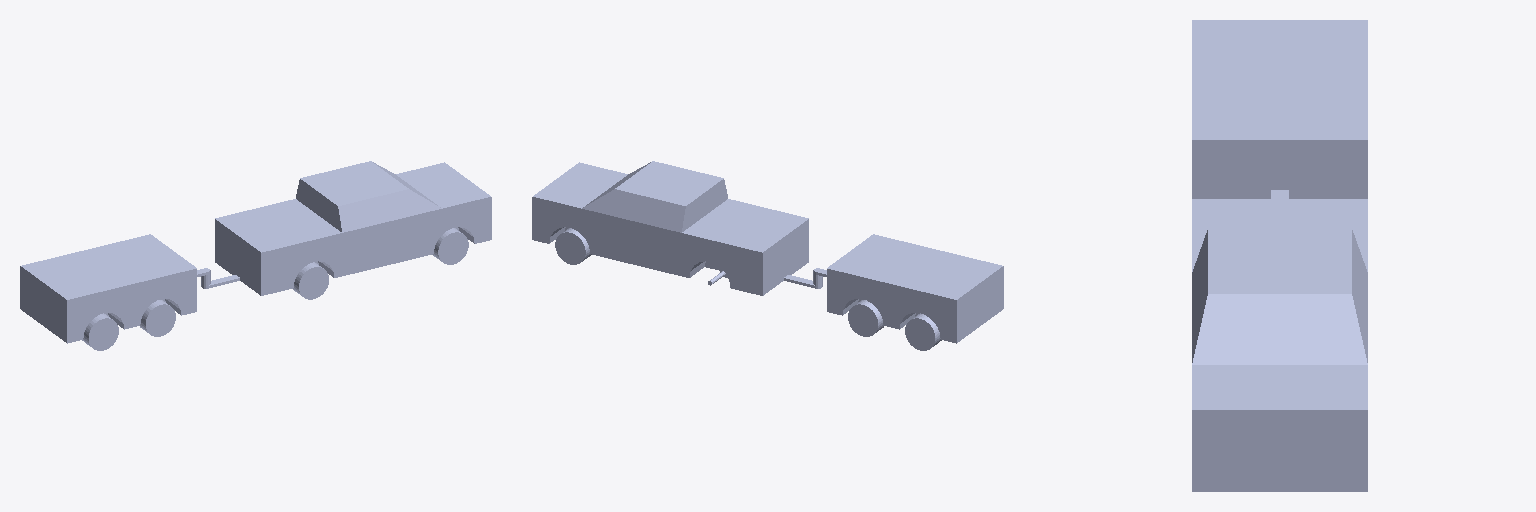
robot.urdf — single_trailer_assembly:
<?xml version="1.0" encoding="utf-8"?>
<!-- This URDF was automatically created by SolidWorks to URDF Exporter! Originally created by [author] ([email redacted]) 
     Commit Version: 1.6.0-4-g7f85cfe  Build Version: 1.6.7995.38578
     For more information, please see http://wiki.ros.org/sw_urdf_exporter -->
<robot
  xmlns:xacro="http://www.ros.org/wiki/xacro"
  name="single_trailer_assembly">
  <link
    name="base_link">
    <inertial>
      <origin
        xyz="0.0133664812595575 -5.07580647006664E-11 0.504334048629493"
        rpy="0 0 0" />
      <mass
        value="5623.70261925949" />
      <inertia
        ixx="1504.92873167937"
        ixy="6.28263899085449E-07"
        ixz="-100.79395439342"
        iyy="7946.38521961247"
        iyz="-7.12382411177824E-08"
        izz="8460.84959033347" />
    </inertial>
    <visual>
      <origin
        xyz="0 0 0"
        rpy="0 0 0" />
      <geometry>
        <mesh
          filename="package://single_trailer_assembly/meshes/base_link.STL" />
      </geometry>
      <material
        name="">
        <color
          rgba="0.792156862745098 0.819607843137255 0.933333333333333 1" />
      </material>
    </visual>
    <collision>
      <origin
        xyz="0 0 0"
        rpy="0 0 0" />
      <geometry>
        <mesh
          filename="package://single_trailer_assembly/meshes/base_link.STL" />
      </geometry>
    </collision>
  </link>
  <link
    name="b_front_left_linkage">
    <inertial>
      <origin
        xyz="2.01833247004402E-07 0.0866174322359835 0.114144894811921"
        rpy="0 0 0" />
      <mass
        value="4.04562727792635" />
      <inertia
        ixx="0.140037164042004"
        ixy="5.57435821150625E-08"
        ixz="-2.08850902311321E-08"
        iyy="0.0827902917589038"
        iyz="0.0400096165626046"
        izz="0.0604906292211793" />
    </inertial>
    <visual>
      <origin
        xyz="0 0 0"
        rpy="0 0 0" />
      <geometry>
        <mesh
          filename="package://single_trailer_assembly/meshes/b_front_left_linkage.STL" />
      </geometry>
      <material
        name="">
        <color
          rgba="0.792156862745098 0.819607843137255 0.933333333333333 1" />
      </material>
    </visual>
    <collision>
      <origin
        xyz="0 0 0"
        rpy="0 0 0" />
      <geometry>
        <mesh
          filename="package://single_trailer_assembly/meshes/b_front_left_linkage.STL" />
      </geometry>
    </collision>
  </link>
  <joint
    name="b_front_left_linkage_joint"
    type="revolute">
    <origin
      xyz="1.46 0.3625 0"
      rpy="0 0 0" />
    <parent
      link="base_link" />
    <child
      link="b_front_left_linkage" />
    <axis
      xyz="0 0 1" />
    <limit
      lower="-0.5"
      upper="0.5"
      effort="0"
      velocity="0" />
  </joint>
  <link
    name="b_front_left_wheel">
    <inertial>
      <origin
        xyz="0 0 0"
        rpy="0 0 0" />
      <mass
        value="74.1907633489725" />
      <inertia
        ixx="2.08218966287404"
        ixy="-1.30089087994337E-17"
        ixz="5.1605164674113E-17"
        iyy="3.08830412900736"
        iyz="7.48293486257905E-18"
        izz="2.08218966287404" />
    </inertial>
    <visual>
      <origin
        xyz="0 0 0"
        rpy="0 0 0" />
      <geometry>
        <mesh
          filename="package://single_trailer_assembly/meshes/b_front_left_wheel.STL" />
      </geometry>
      <material
        name="">
        <color
          rgba="0.792156862745098 0.819607843137255 0.933333333333333 1" />
      </material>
    </visual>
    <collision>
      <origin
        xyz="0 0 0"
        rpy="0 0 0" />
      <geometry>
        <mesh
          filename="package://single_trailer_assembly/meshes/b_front_left_wheel.STL" />
      </geometry>
    </collision>
  </link>
  <joint
    name="b_front_left_joint"
    type="revolute">
    <origin
      xyz="0 0.2275 0"
      rpy="0 0 0" />
    <parent
      link="b_front_left_linkage" />
    <child
      link="b_front_left_wheel" />
    <axis
      xyz="0 -1 0" />
    <limit
      lower="0"
      upper="0"
      effort="0"
      velocity="0" />
  </joint>
  <link
    name="b_front_right_linkage">
    <inertial>
      <origin
        xyz="-2.01833246116223E-07 -0.0866174322359831 0.114144894811923"
        rpy="0 0 0" />
      <mass
        value="4.04562727792644" />
      <inertia
        ixx="0.140037164042006"
        ixy="5.57435820882623E-08"
        ixz="2.08850901566751E-08"
        iyy="0.0827902917589053"
        iyz="-0.0400096165626047"
        izz="0.0604906292211793" />
    </inertial>
    <visual>
      <origin
        xyz="0 0 0"
        rpy="0 0 0" />
      <geometry>
        <mesh
          filename="package://single_trailer_assembly/meshes/b_front_right_linkage.STL" />
      </geometry>
      <material
        name="">
        <color
          rgba="0.792156862745098 0.819607843137255 0.933333333333333 1" />
      </material>
    </visual>
    <collision>
      <origin
        xyz="0 0 0"
        rpy="0 0 0" />
      <geometry>
        <mesh
          filename="package://single_trailer_assembly/meshes/b_front_right_linkage.STL" />
      </geometry>
    </collision>
  </link>
  <joint
    name="b_front_right_linkage_joint"
    type="revolute">
    <origin
      xyz="1.46 -0.3625 0"
      rpy="0 0 0" />
    <parent
      link="base_link" />
    <child
      link="b_front_right_linkage" />
    <axis
      xyz="0 0 1" />
    <limit
      lower="-0.5"
      upper="0.5"
      effort="0"
      velocity="0" />
  </joint>
  <link
    name="b_front_right_wheel">
    <inertial>
      <origin
        xyz="0 0 0"
        rpy="0 0 0" />
      <mass
        value="74.1907633489725" />
      <inertia
        ixx="2.08218966287404"
        ixy="1.28145530038214E-18"
        ixz="-2.40294106238822E-16"
        iyy="3.08830412900736"
        iyz="-2.41880721526122E-18"
        izz="2.08218966287404" />
    </inertial>
    <visual>
      <origin
        xyz="0 0 0"
        rpy="0 0 0" />
      <geometry>
        <mesh
          filename="package://single_trailer_assembly/meshes/b_front_right_wheel.STL" />
      </geometry>
      <material
        name="">
        <color
          rgba="0.792156862745098 0.819607843137255 0.933333333333333 1" />
      </material>
    </visual>
    <collision>
      <origin
        xyz="0 0 0"
        rpy="0 0 0" />
      <geometry>
        <mesh
          filename="package://single_trailer_assembly/meshes/b_front_right_wheel.STL" />
      </geometry>
    </collision>
  </link>
  <joint
    name="b_front_right_joint"
    type="revolute">
    <origin
      xyz="0 -0.2275 0"
      rpy="0 0 0" />
    <parent
      link="b_front_right_linkage" />
    <child
      link="b_front_right_wheel" />
    <axis
      xyz="0 -1 0" />
    <limit
      lower="0"
      upper="0"
      effort="0"
      velocity="0" />
  </joint>
  <link
    name="b_back_left_wheel">
    <inertial>
      <origin
        xyz="0 -1.11022302462516E-16 0"
        rpy="0 0 0" />
      <mass
        value="74.1907633489725" />
      <inertia
        ixx="2.08218966287404"
        ixy="-3.48598814788576E-15"
        ixz="9.86076131526265E-32"
        iyy="3.08830412900736"
        iyz="-1.23785934175428E-30"
        izz="2.08218966287404" />
    </inertial>
    <visual>
      <origin
        xyz="0 0 0"
        rpy="0 0 0" />
      <geometry>
        <mesh
          filename="package://single_trailer_assembly/meshes/b_back_left_wheel.STL" />
      </geometry>
      <material
        name="">
        <color
          rgba="0.792156862745098 0.819607843137255 0.933333333333333 1" />
      </material>
    </visual>
    <collision>
      <origin
        xyz="0 0 0"
        rpy="0 0 0" />
      <geometry>
        <mesh
          filename="package://single_trailer_assembly/meshes/b_back_left_wheel.STL" />
      </geometry>
    </collision>
  </link>
  <joint
    name="b_back_left_joint"
    type="revolute">
    <origin
      xyz="-1.17 0.6125 0"
      rpy="0 0 0" />
    <parent
      link="base_link" />
    <child
      link="b_back_left_wheel" />
    <axis
      xyz="0 1 0" />
    <limit
      lower="0"
      upper="0"
      effort="0"
      velocity="0" />
  </joint>
  <link
    name="b_back_right_wheel">
    <inertial>
      <origin
        xyz="0 1.11022302462516E-16 0"
        rpy="0 0 0" />
      <mass
        value="74.1907633489725" />
      <inertia
        ixx="2.08218966287404"
        ixy="3.48598814788576E-15"
        ixz="9.86076131526265E-32"
        iyy="3.08830412900736"
        iyz="1.22529057414273E-30"
        izz="2.08218966287404" />
    </inertial>
    <visual>
      <origin
        xyz="0 0 0"
        rpy="0 0 0" />
      <geometry>
        <mesh
          filename="package://single_trailer_assembly/meshes/b_back_right_wheel.STL" />
      </geometry>
      <material
        name="">
        <color
          rgba="0.792156862745098 0.819607843137255 0.933333333333333 1" />
      </material>
    </visual>
    <collision>
      <origin
        xyz="0 0 0"
        rpy="0 0 0" />
      <geometry>
        <mesh
          filename="package://single_trailer_assembly/meshes/b_back_right_wheel.STL" />
      </geometry>
    </collision>
  </link>
  <joint
    name="b_back_right_joint"
    type="revolute">
    <origin
      xyz="-1.17 -0.6125 0"
      rpy="0 0 0" />
    <parent
      link="base_link" />
    <child
      link="b_back_right_wheel" />
    <axis
      xyz="0 1 0" />
    <limit
      lower="0"
      upper="0"
      effort="0"
      velocity="0" />
  </joint>
  <link
    name="trailer">
    <inertial>
      <origin
        xyz="0.00442147901490841 -1.93479626032503E-16 0.0381335014738863"
        rpy="0 0 0" />
      <mass
        value="2461.70630024305" />
      <inertia
        ixx="548.627112313706"
        ixy="-7.55825540790616E-14"
        ixz="1.90768805911008"
        iyy="1433.47760714364"
        iyz="3.45359653404504E-14"
        izz="1743.78406934508" />
    </inertial>
    <visual>
      <origin
        xyz="0 0 0"
        rpy="0 0 0" />
      <geometry>
        <mesh
          filename="package://single_trailer_assembly/meshes/trailer.STL" />
      </geometry>
      <material
        name="">
        <color
          rgba="0.792156862745098 0.819607843137255 0.933333333333333 1" />
      </material>
    </visual>
    <collision>
      <origin
        xyz="0 0 0"
        rpy="0 0 0" />
      <geometry>
        <mesh
          filename="package://single_trailer_assembly/meshes/trailer.STL" />
      </geometry>
    </collision>
  </link>
  <joint
    name="trailer_joint"
    type="revolute">
    <origin
      xyz="-4.5815 0 0.38996"
      rpy="0 0 0" />
    <parent
      link="base_link" />
    <child
      link="trailer" />
    <axis
      xyz="0 0 -1" />
    <limit
      lower="-1"
      upper="1"
      effort="0"
      velocity="0" />
  </joint>
  <link
    name="t_front_left_wheel">
    <inertial>
      <origin
        xyz="0 0 1.11022302462516E-16"
        rpy="0 0 0" />
      <mass
        value="74.1907633489725" />
      <inertia
        ixx="2.08218966287404"
        ixy="3.68854120901134E-17"
        ixz="-7.9244016524326E-32"
        iyy="3.08830412900736"
        iyz="-6.26636119034903E-17"
        izz="2.08218966287404" />
    </inertial>
    <visual>
      <origin
        xyz="0 0 0"
        rpy="0 0 0" />
      <geometry>
        <mesh
          filename="package://single_trailer_assembly/meshes/t_front_left_wheel.STL" />
      </geometry>
      <material
        name="">
        <color
          rgba="0.792156862745098 0.819607843137255 0.933333333333333 1" />
      </material>
    </visual>
    <collision>
      <origin
        xyz="0 0 0"
        rpy="0 0 0" />
      <geometry>
        <mesh
          filename="package://single_trailer_assembly/meshes/t_front_left_wheel.STL" />
      </geometry>
    </collision>
  </link>
  <joint
    name="t_front_left_joint"
    type="revolute">
    <origin
      xyz="0.53575 0.6125 -0.38996"
      rpy="0 0 0" />
    <parent
      link="trailer" />
    <child
      link="t_front_left_wheel" />
    <axis
      xyz="0 1 0" />
    <limit
      lower="0"
      upper="0"
      effort="0"
      velocity="0" />
  </joint>
  <link
    name="t_front_right_wheel">
    <inertial>
      <origin
        xyz="4.44089209850063E-16 0 0"
        rpy="0 0 0" />
      <mass
        value="74.1907633489725" />
      <inertia
        ixx="2.08218966287404"
        ixy="-3.68854120901134E-17"
        ixz="-7.88853719605921E-32"
        iyy="3.08830412900736"
        iyz="-7.80658300851281E-17"
        izz="2.08218966287404" />
    </inertial>
    <visual>
      <origin
        xyz="0 0 0"
        rpy="0 0 0" />
      <geometry>
        <mesh
          filename="package://single_trailer_assembly/meshes/t_front_right_wheel.STL" />
      </geometry>
      <material
        name="">
        <color
          rgba="0.792156862745098 0.819607843137255 0.933333333333333 1" />
      </material>
    </visual>
    <collision>
      <origin
        xyz="0 0 0"
        rpy="0 0 0" />
      <geometry>
        <mesh
          filename="package://single_trailer_assembly/meshes/t_front_right_wheel.STL" />
      </geometry>
    </collision>
  </link>
  <joint
    name="t_front_right_joint"
    type="revolute">
    <origin
      xyz="0.53575 -0.6125 -0.38996"
      rpy="0 0 0" />
    <parent
      link="trailer" />
    <child
      link="t_front_right_wheel" />
    <axis
      xyz="0 1 0" />
    <limit
      lower="0"
      upper="0"
      effort="0"
      velocity="0" />
  </joint>
  <link
    name="t_back_left_wheel">
    <inertial>
      <origin
        xyz="0 0 0"
        rpy="0 0 0" />
      <mass
        value="74.1907633489725" />
      <inertia
        ixx="2.08218966287404"
        ixy="7.13254465120665E-17"
        ixz="7.28624699975923E-33"
        iyy="3.08830412900736"
        iyz="3.98256998387972E-18"
        izz="2.08218966287404" />
    </inertial>
    <visual>
      <origin
        xyz="0 0 0"
        rpy="0 0 0" />
      <geometry>
        <mesh
          filename="package://single_trailer_assembly/meshes/t_back_left_wheel.STL" />
      </geometry>
      <material
        name="">
        <color
          rgba="0.792156862745098 0.819607843137255 0.933333333333333 1" />
      </material>
    </visual>
    <collision>
      <origin
        xyz="0 0 0"
        rpy="0 0 0" />
      <geometry>
        <mesh
          filename="package://single_trailer_assembly/meshes/t_back_left_wheel.STL" />
      </geometry>
    </collision>
  </link>
  <joint
    name="t_back_left_joint"
    type="revolute">
    <origin
      xyz="-0.53575 0.6125 -0.38996"
      rpy="0 0 0" />
    <parent
      link="trailer" />
    <child
      link="t_back_left_wheel" />
    <axis
      xyz="0 1 0" />
    <limit
      lower="0"
      upper="0"
      effort="0"
      velocity="0" />
  </joint>
  <link
    name="t_back_right_wheel">
    <inertial>
      <origin
        xyz="0 0 0"
        rpy="0 0 0" />
      <mass
        value="74.1907633489725" />
      <inertia
        ixx="2.08218966287404"
        ixy="-7.13254465120665E-17"
        ixz="6.90280642601818E-33"
        iyy="3.08830412900736"
        iyz="-3.98256998387974E-18"
        izz="2.08218966287404" />
    </inertial>
    <visual>
      <origin
        xyz="0 0 0"
        rpy="0 0 0" />
      <geometry>
        <mesh
          filename="package://single_trailer_assembly/meshes/t_back_right_wheel.STL" />
      </geometry>
      <material
        name="">
        <color
          rgba="0.792156862745098 0.819607843137255 0.933333333333333 1" />
      </material>
    </visual>
    <collision>
      <origin
        xyz="0 0 0"
        rpy="0 0 0" />
      <geometry>
        <mesh
          filename="package://single_trailer_assembly/meshes/t_back_right_wheel.STL" />
      </geometry>
    </collision>
  </link>
  <joint
    name="t_back_right_joint"
    type="revolute">
    <origin
      xyz="-0.53575 -0.6125 -0.38996"
      rpy="0 0 0" />
    <parent
      link="trailer" />
    <child
      link="t_back_right_wheel" />
    <axis
      xyz="0 1 0" />
    <limit
      lower="0"
      upper="0"
      effort="0"
      velocity="0" />
  </joint>
</robot>

--- What the picture shows (computed from the rendered views, not written in the file) ---
Views: 3 orthographic renders of the robot side by side, from view 1: azimuth 30°, elevation 25°; view 2: azimuth 150°, elevation 25°; view 3: azimuth 270°, elevation 25°.
Robot: single_trailer_assembly — 12 links, 11 joints (11 revolute); root link base_link; default pose: every joint at zero.
Links seen in each view (by area): view 1: base_link, trailer, t_back_right_wheel, b_back_right_wheel, t_front_right_wheel, b_front_right_wheel; view 2: base_link, trailer, t_back_left_wheel, t_front_left_wheel, b_front_left_wheel; view 3: base_link, trailer.
Link boxes in pixels (x1,y1,x2,y2): base_link: (201, 161, 491, 295); trailer: (20, 234, 210, 343); t_back_right_wheel: (82, 313, 118, 350); b_back_right_wheel: (293, 262, 328, 299); t_front_right_wheel: (140, 300, 175, 336); b_front_right_wheel: (432, 228, 468, 264); base_link: (532, 161, 822, 295); trailer: (813, 234, 1003, 343); t_back_left_wheel: (905, 313, 941, 350); t_front_left_wheel: (848, 300, 883, 336); b_front_left_wheel: (555, 228, 591, 264); base_link: (1192, 199, 1367, 491); trailer: (1192, 20, 1367, 198).
Size in the robot's own frame: 7.96 by 1.52 by 1.49 metres.
11 mesh visuals loaded from 12 distinct referenced files (11 binary STL); not drawn: 1 (reference not matched to a file when rendering).